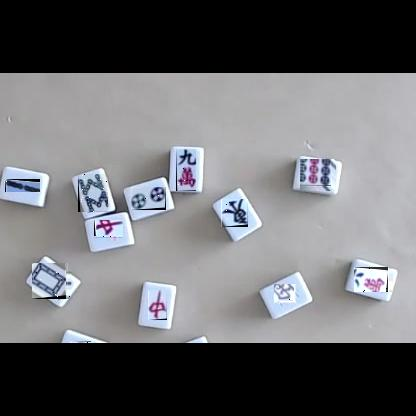1z: (221, 199, 248, 227)
2p: (131, 187, 166, 210)
2s: (5, 179, 40, 192)
3z: (275, 285, 299, 306), (70, 341, 91, 343)
5z: (33, 263, 71, 299)
6m: (355, 267, 393, 292)
7z: (94, 221, 123, 241), (148, 290, 167, 320)
8s: (78, 174, 108, 212)
9m: (176, 149, 196, 191)
9p: (301, 160, 336, 191)
